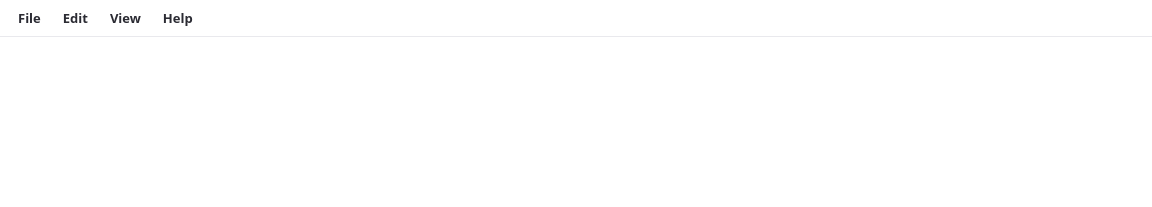
Test: MenuBar › Help menu lists About, Documentation, Submit an issue, and Keyboard Shortcuts
Click the menu item "Help" at (178, 18), box left=153, top=4, right=203, bottom=32
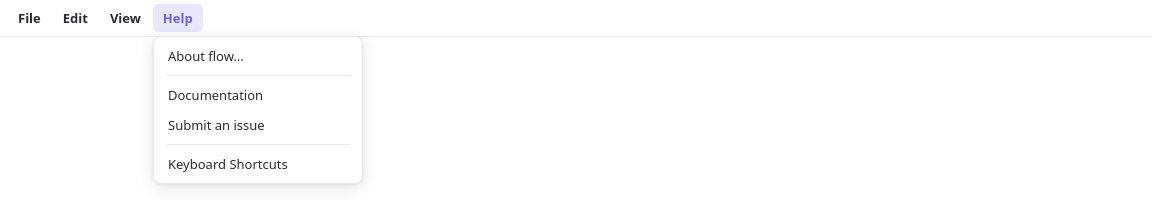
expect the menu item "About flow…" is shown: met, box left=168, top=47, right=244, bottom=65
expect the menu item "Documentation" is shown: met, box left=168, top=86, right=263, bottom=104
expect the menu item "Submit an issue" is shown: met, box left=168, top=116, right=265, bottom=134
